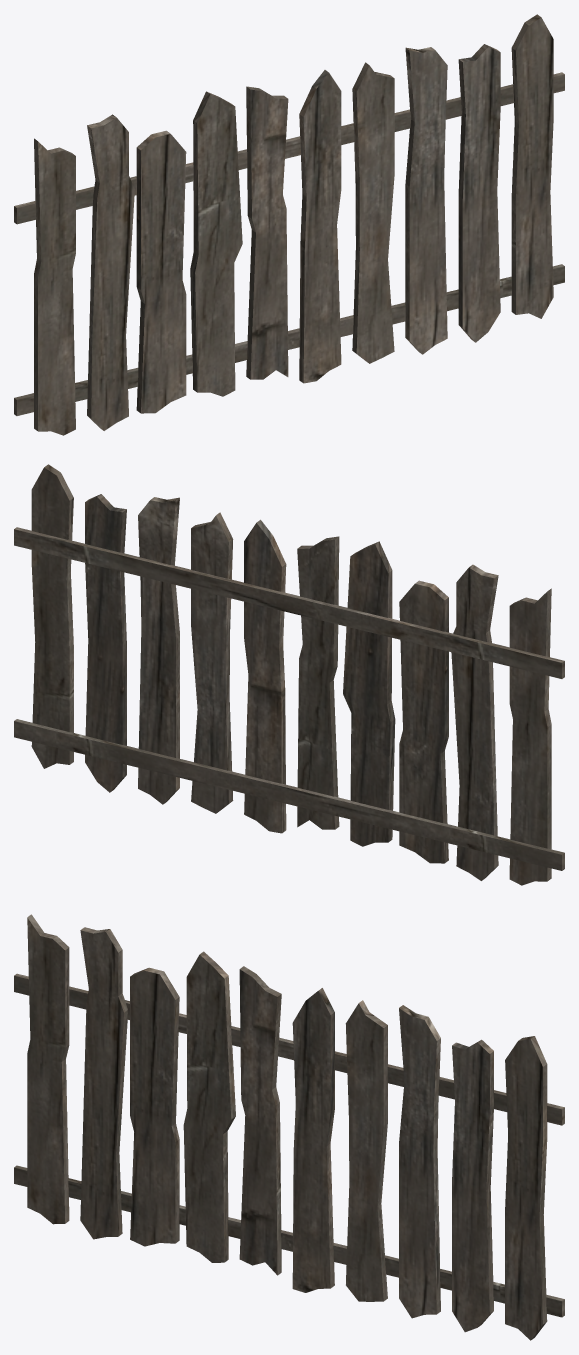
The model's file is Fence.fbx.
The picture shows the model from 3 angles, top to bottom: view 1: azimuth 30°, elevation 25°; view 2: azimuth 150°, elevation 25°; view 3: azimuth 330°, elevation 25°; orthographic projection.
Parts seen in each view (by area): view 1: Fence; view 2: Fence; view 3: Fence.
Part boxes in pixels (box(x1,y1,x2,y2)): Fence: box(14, 14, 564, 435); Fence: box(14, 464, 564, 885); Fence: box(14, 914, 564, 1340).
Bounding box in the file's own units: 768 × 419 × 17.33.
1 material, 1 textured.
